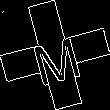M_N: (27, 25, 83, 85)
